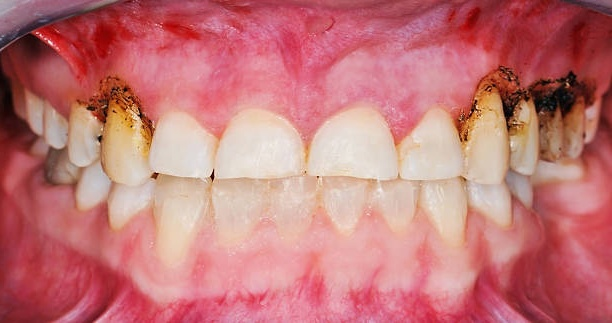Gingivitis: (62, 249, 485, 322)
